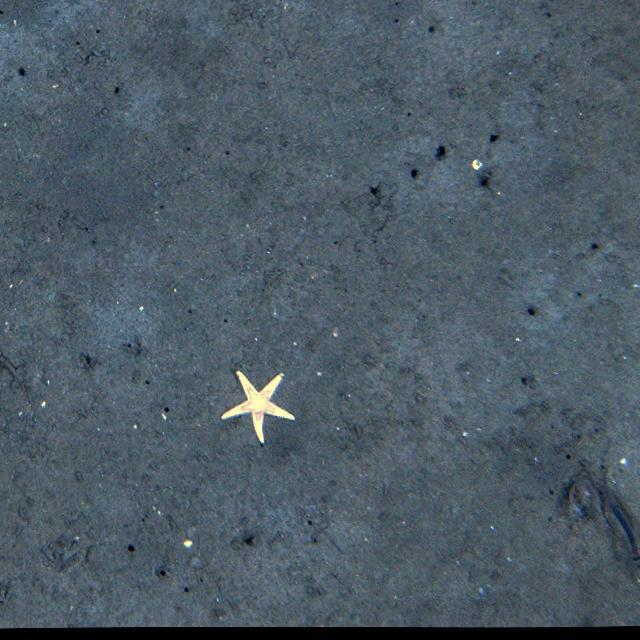roundfish: (572, 458, 640, 588)
